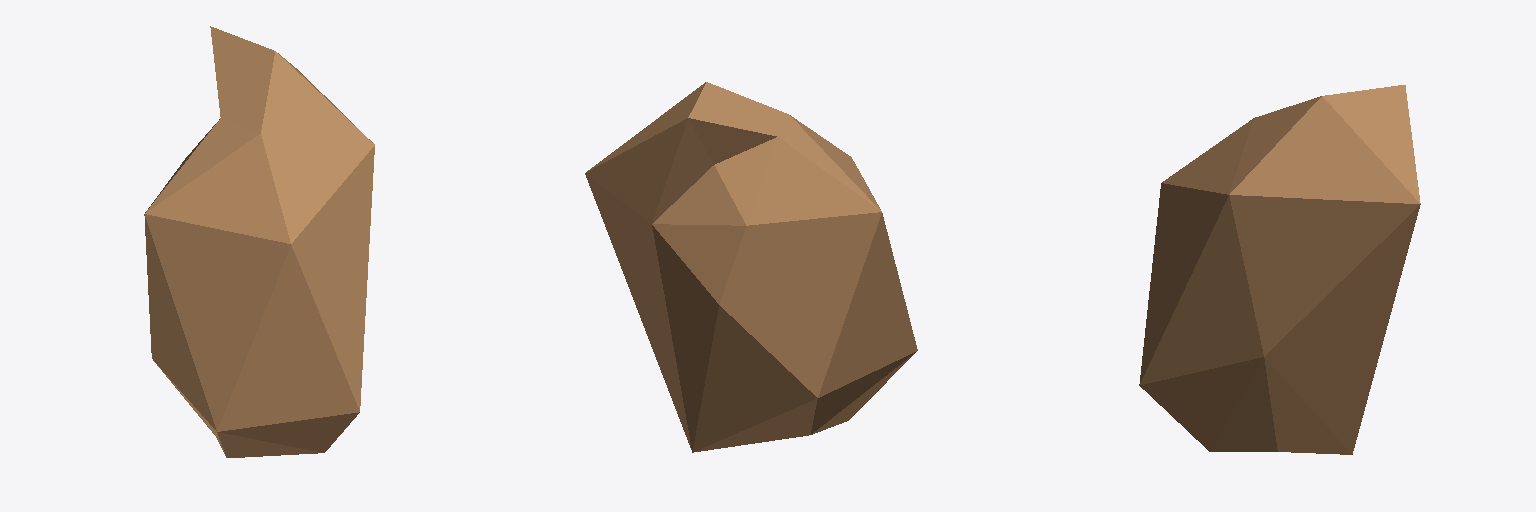
File: stone1A(F38).obj
The picture shows the model from 3 angles: view 1: azimuth 30°, elevation 25°; view 2: azimuth 150°, elevation 25°; view 3: azimuth 270°, elevation 25°; orthographic projection.
Parts seen in each view (by area): view 1: Icosphere.001; view 2: Icosphere.001; view 3: Icosphere.001.
Part boxes in pixels (left/top/right/bottom): Icosphere.001: left=144, top=26, right=374, bottom=457; Icosphere.001: left=585, top=82, right=917, bottom=452; Icosphere.001: left=1139, top=85, right=1420, bottom=454.
Bounding box in the file's own units: 2.04 × 3.11 × 2.2.